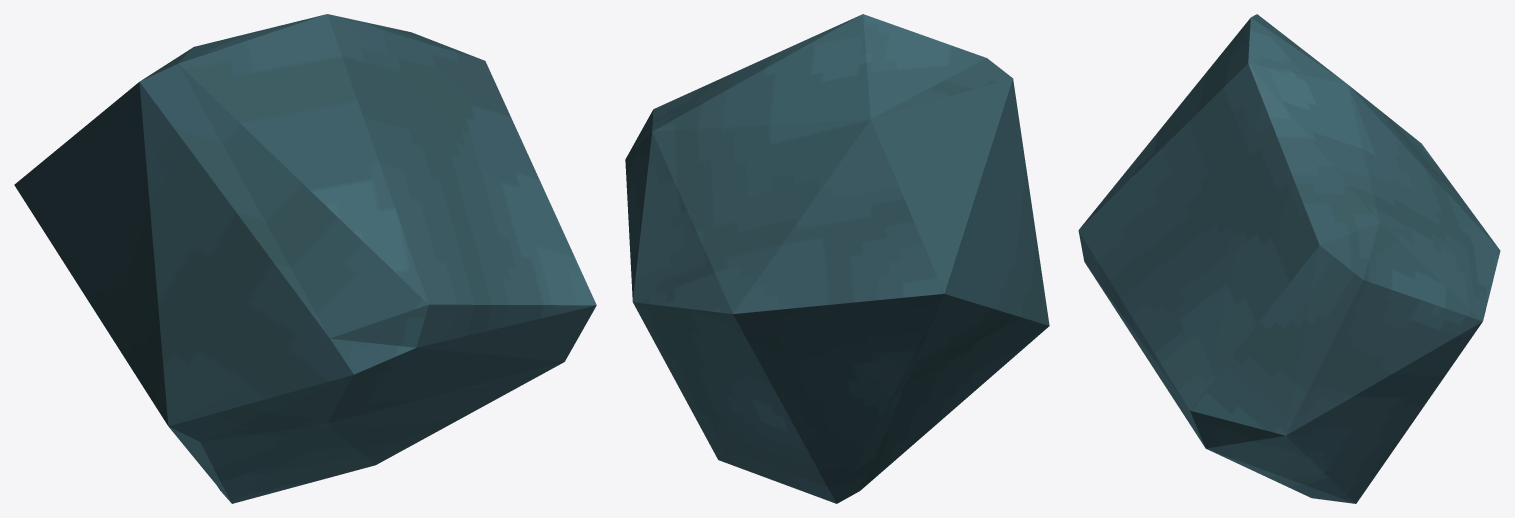
The model's file is CrashRock_C07_09.fbx.
3 views of the same model, side by side, from view 1: azimuth 30°, elevation 25°; view 2: azimuth 150°, elevation 25°; view 3: azimuth 270°, elevation 25° (orthographic). The views are drawn at different scales.
Parts seen in each view (by area): view 1: CrashRock_C07; view 2: CrashRock_C07; view 3: CrashRock_C07.
Boxes of the visible parts, x1,y1,x2,y2 form: CrashRock_C07: (14,14,596,503); CrashRock_C07: (625,14,1049,503); CrashRock_C07: (1078,14,1500,503).
Bounding box in the file's own units: 1.07 × 1.18 × 1.09.
1 material, 1 textured.
